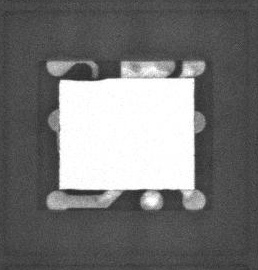DIE_BROKEN: (69, 76, 107, 81)
